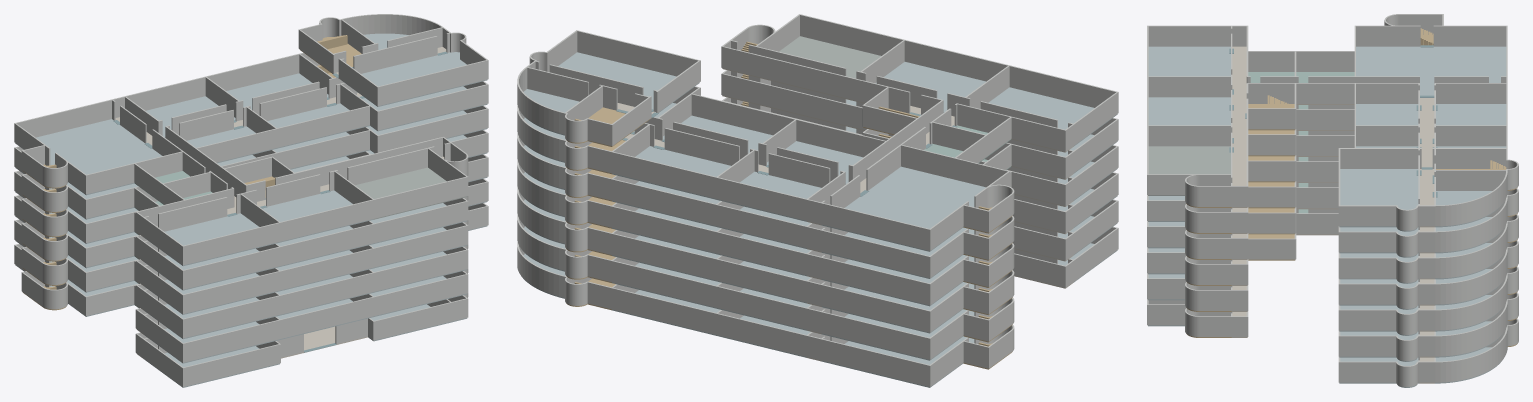
Rendered from building.glb.
3 renders of one model, left to right at view 1: azimuth 30°, elevation 25°; view 2: azimuth 150°, elevation 25°; view 3: azimuth 270°, elevation 25°, orthographic. The views are drawn at different scales.
Parts seen in each view (by area): view 1: floor_5, floor_4, floor_3, floor_1, floor_6, floor_2, floor_0; view 2: floor_5, floor_4, floor_3, floor_1, floor_0, floor_2, floor_6; view 3: floor_5, floor_6, floor_4, floor_3, floor_1, floor_0, floor_2.
Boxes of the visible parts, bbox=[...] form: floor_5: bbox=[14, 52, 488, 266]; floor_4: bbox=[14, 105, 488, 290]; floor_3: bbox=[14, 130, 488, 314]; floor_1: bbox=[14, 178, 488, 363]; floor_6: bbox=[298, 14, 488, 106]; floor_2: bbox=[14, 154, 488, 339]; floor_0: bbox=[14, 203, 488, 387]; floor_5: bbox=[517, 14, 1118, 251]; floor_4: bbox=[517, 70, 1118, 278]; floor_3: bbox=[517, 97, 1118, 306]; floor_1: bbox=[517, 199, 1118, 360]; floor_0: bbox=[517, 226, 1118, 387]; floor_2: bbox=[517, 172, 1118, 333]; floor_6: bbox=[517, 30, 700, 146]; floor_5: bbox=[1147, 14, 1518, 257]; floor_6: bbox=[1338, 148, 1518, 231]; floor_4: bbox=[1147, 105, 1518, 283]; floor_3: bbox=[1147, 131, 1518, 309]; floor_1: bbox=[1147, 183, 1518, 361]; floor_0: bbox=[1147, 209, 1518, 387]; floor_2: bbox=[1147, 157, 1518, 335].
Size of the model in its own units: 66 by 24.58 by 46.6.
